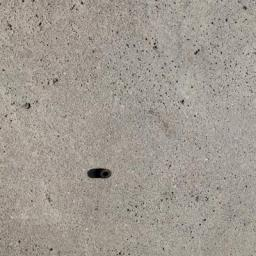FOD: (86, 166, 114, 183)
